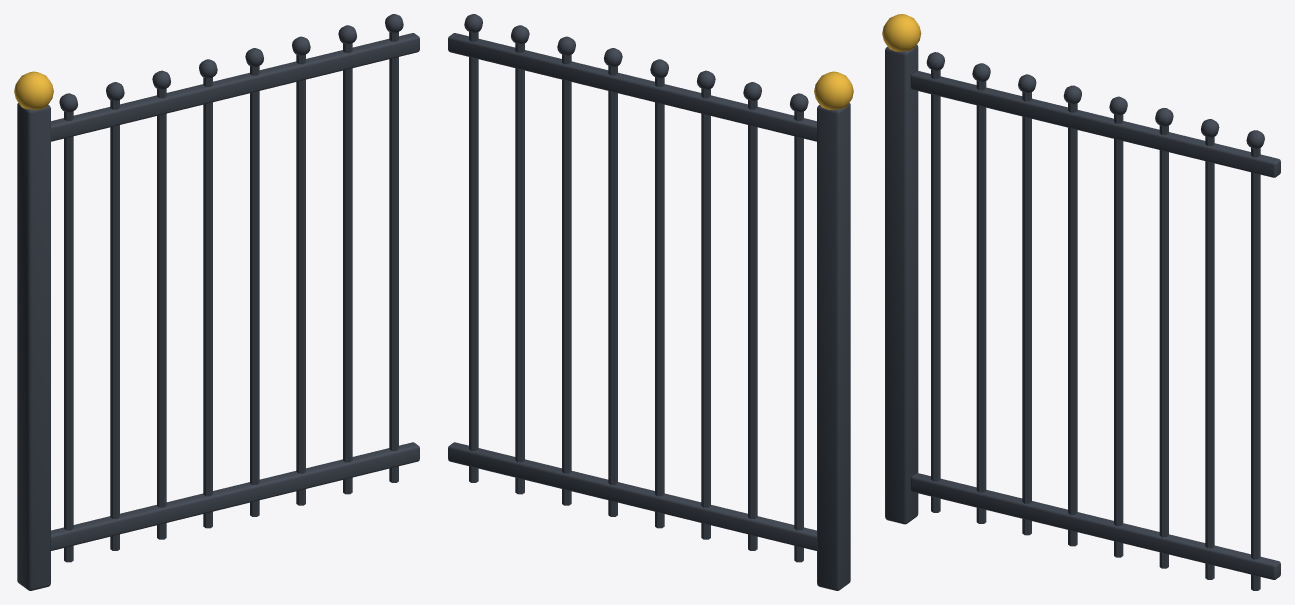
File: cerca_metal_1m.glb
3 views of the same model, side by side, from view 1: azimuth 30°, elevation 25°; view 2: azimuth 150°, elevation 25°; view 3: azimuth 330°, elevation 25° (orthographic).
Parts seen in each view (by area): view 1: cerca_metal_1m; view 2: cerca_metal_1m; view 3: cerca_metal_1m.
Part boxes in pixels (<box>): cerca_metal_1m: <box>14,14,419,590</box>; cerca_metal_1m: <box>448,14,853,590</box>; cerca_metal_1m: <box>882,14,1280,590</box>.
Size of the model in its own units: 1.05 by 1.27 by 0.09.
1 material, 1 textured.
